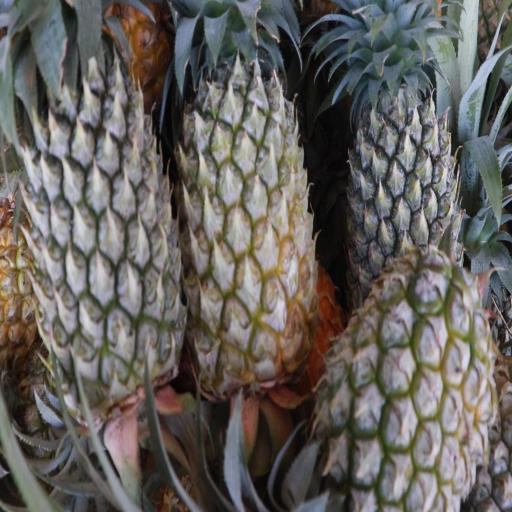------------------------------: (178, 22, 313, 390), (322, 264, 494, 508)
